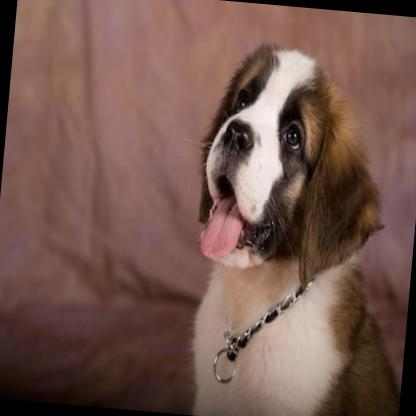Saint_Bernard: (157, 30, 416, 416)
